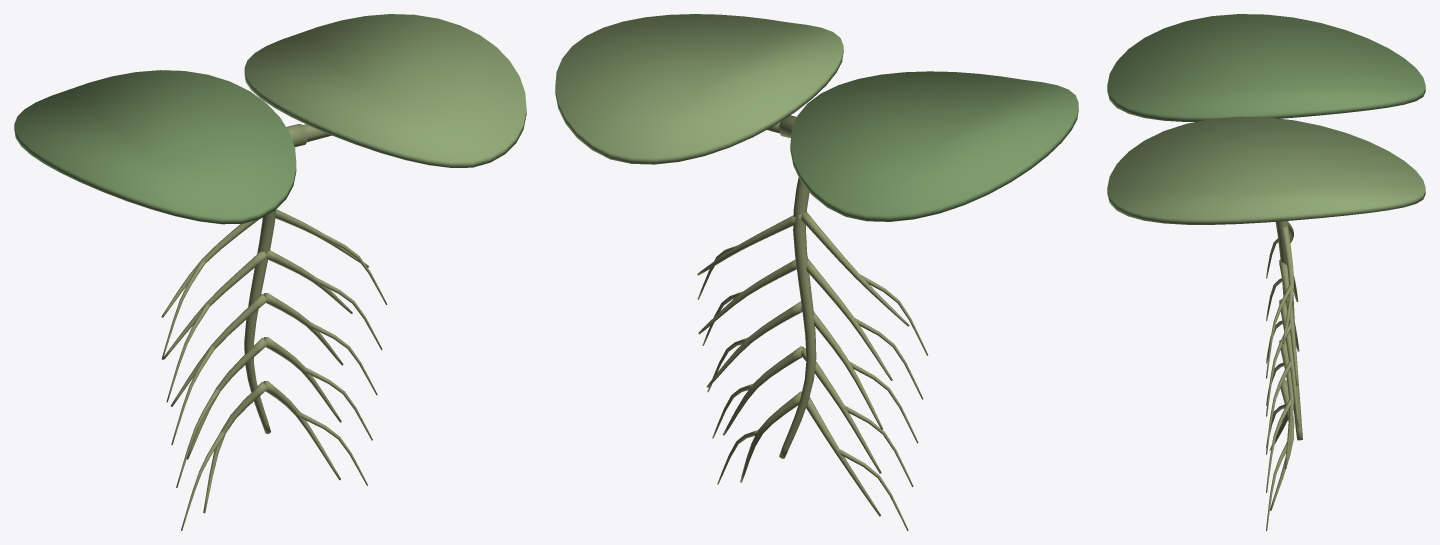
The model's file is salvinia.glb.
3 renders of one model, left to right at view 1: azimuth 30°, elevation 25°; view 2: azimuth 150°, elevation 25°; view 3: azimuth 270°, elevation 25°, orthographic. The views are drawn at different scales.
Visible parts, largest first — view 1: exactly-two-broad-floating-leaves, one-dissected-submerged-leaf-NOT-ROOTS, short-node-and-floating-leaf-petioles; view 2: exactly-two-broad-floating-leaves, one-dissected-submerged-leaf-NOT-ROOTS; view 3: exactly-two-broad-floating-leaves, one-dissected-submerged-leaf-NOT-ROOTS.
Part boxes in pixels (left/top/right/bottom): exactly-two-broad-floating-leaves: left=14, top=14, right=526, bottom=224; one-dissected-submerged-leaf-NOT-ROOTS: left=161, top=209, right=387, bottom=530; short-node-and-floating-leaf-petioles: left=286, top=124, right=331, bottom=147; exactly-two-broad-floating-leaves: left=555, top=14, right=1078, bottom=221; one-dissected-submerged-leaf-NOT-ROOTS: left=697, top=177, right=927, bottom=530; exactly-two-broad-floating-leaves: left=1107, top=14, right=1425, bottom=224; one-dissected-submerged-leaf-NOT-ROOTS: left=1266, top=221, right=1302, bottom=530.
Size of the model in its own units: 0.06 by 0.0518 by 0.04.
